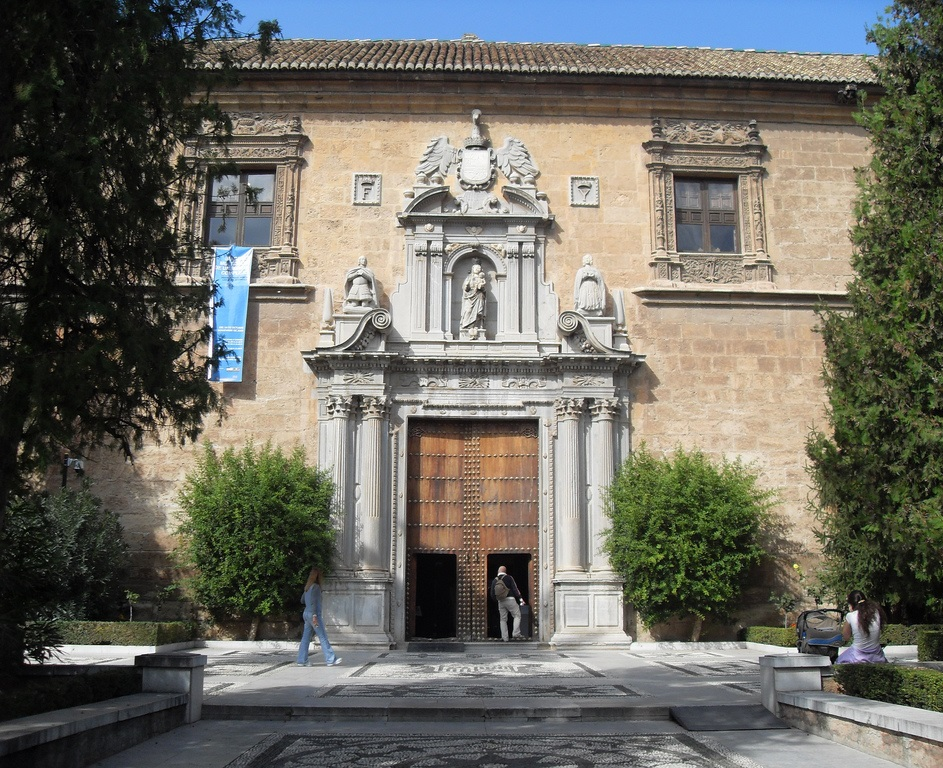fronton-partido: (304, 307, 635, 366), (397, 183, 548, 222)
vano-adintelado: (390, 398, 556, 643), (642, 162, 772, 258), (194, 151, 288, 248)
